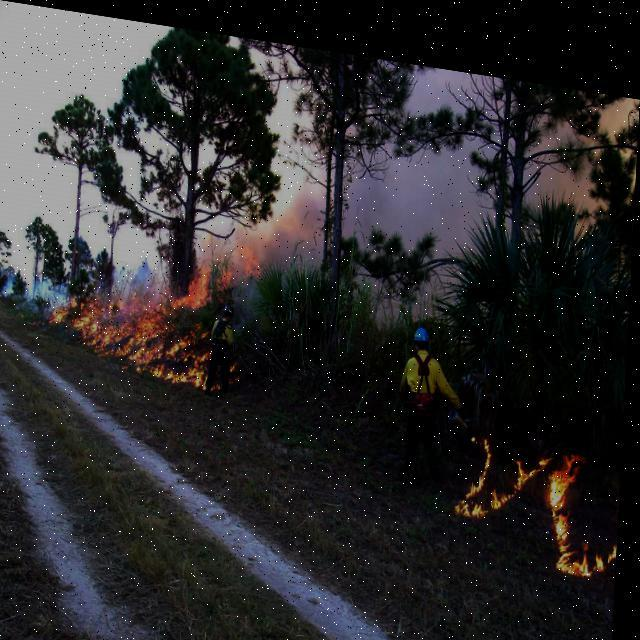Fire: (52, 205, 251, 388), (550, 433, 624, 560), (462, 410, 546, 516)
